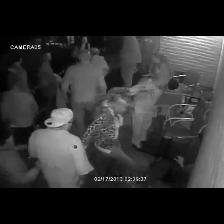person: (28, 108, 93, 187), (82, 94, 137, 175), (131, 55, 170, 148), (62, 51, 104, 136), (1, 60, 38, 144), (0, 119, 40, 187), (35, 53, 58, 121), (120, 36, 141, 87), (90, 48, 109, 96), (140, 36, 159, 73), (72, 36, 90, 58)
